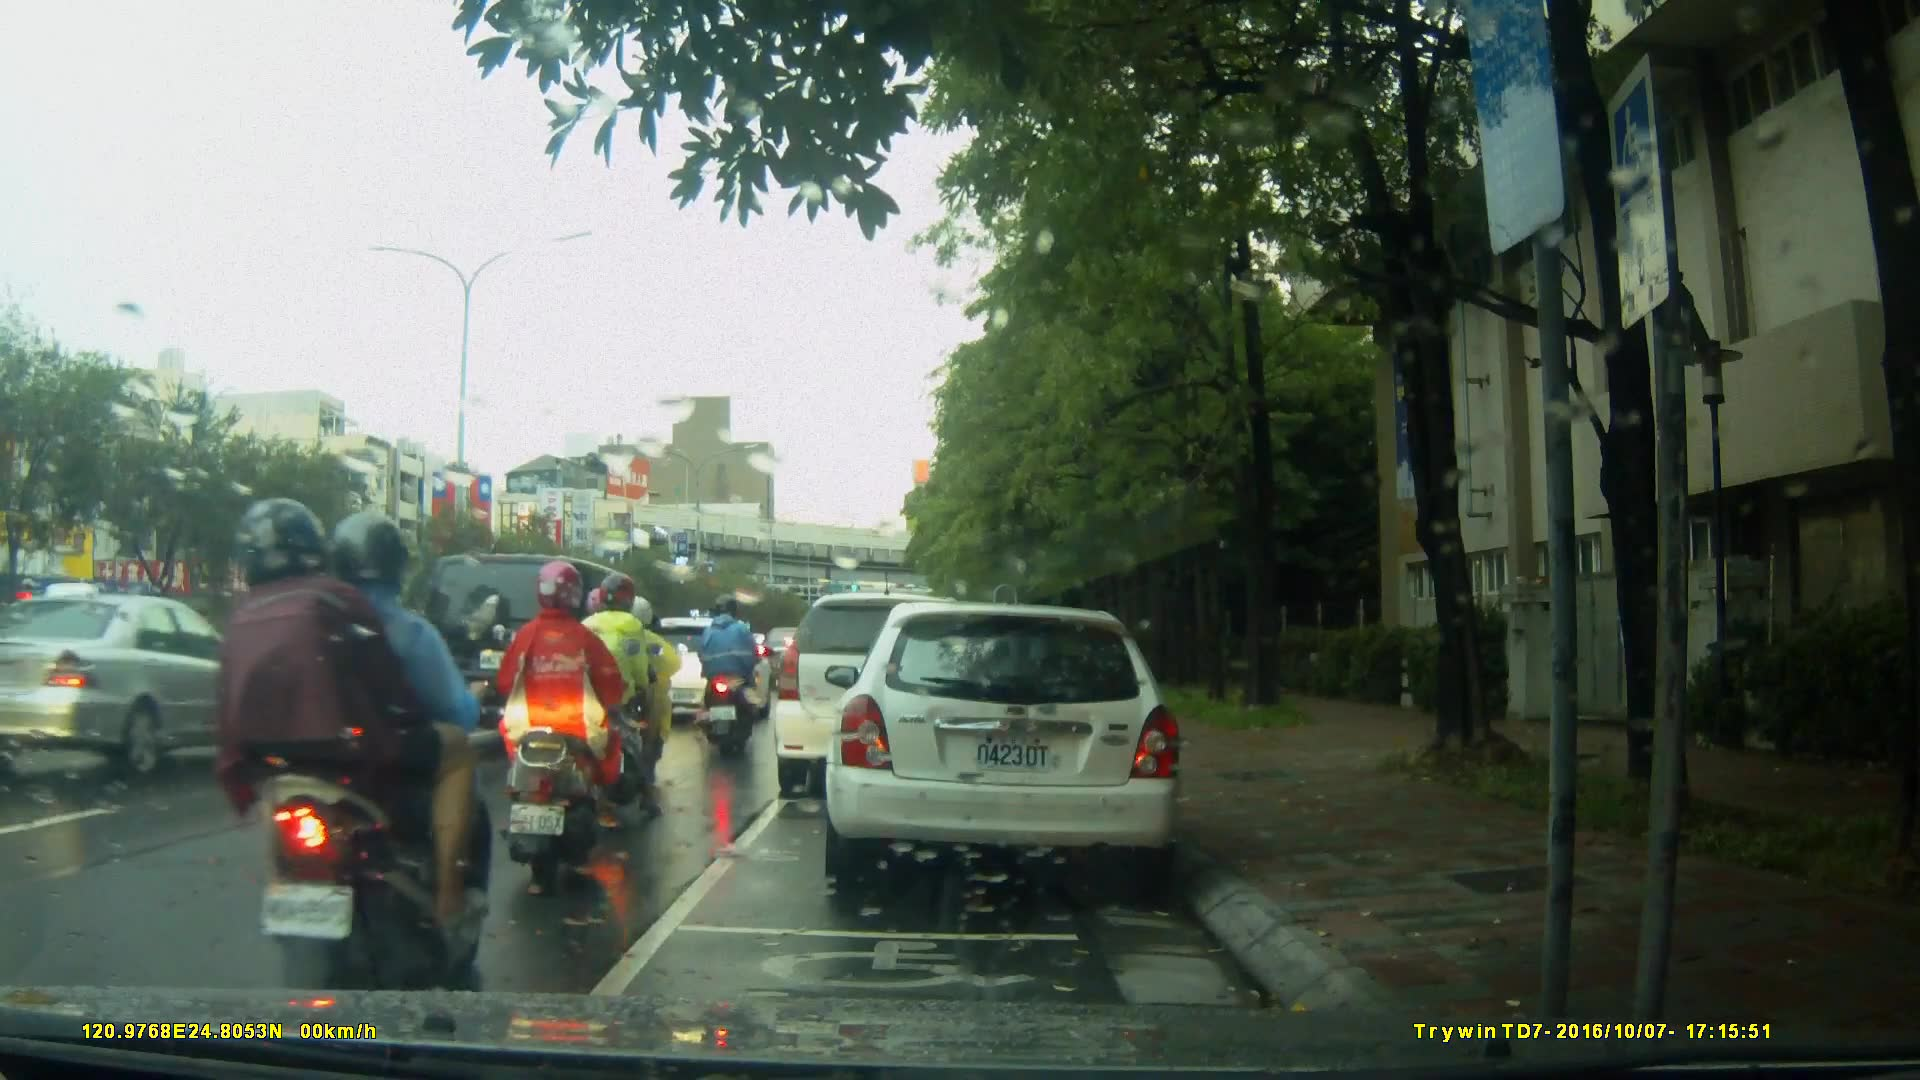rider: (222, 501, 493, 998), (494, 556, 633, 892), (282, 574, 423, 788), (573, 571, 676, 821), (606, 596, 682, 793), (692, 593, 762, 751)
vehicle: (822, 604, 1188, 883), (1, 591, 297, 784), (418, 552, 661, 753), (774, 595, 995, 802)
